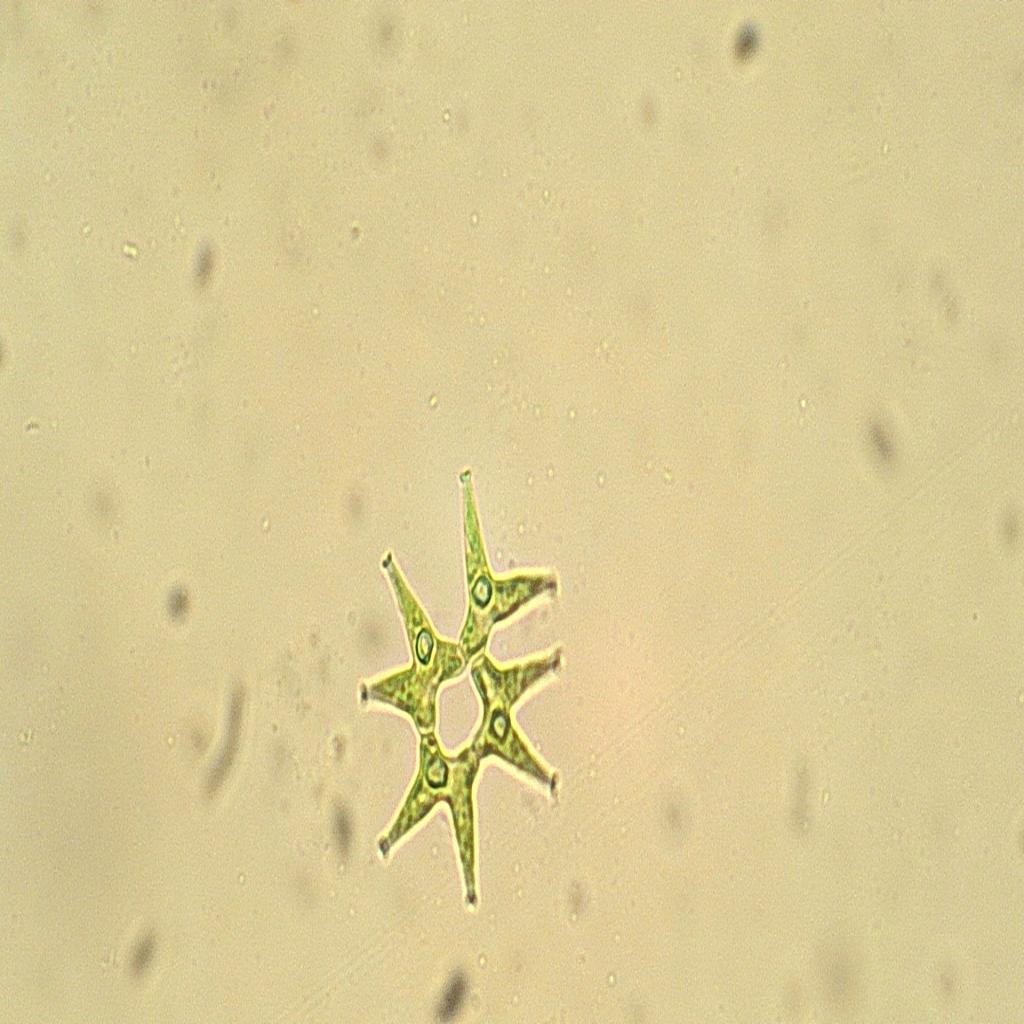Pediastrum_75FI: (342, 455, 586, 923)
